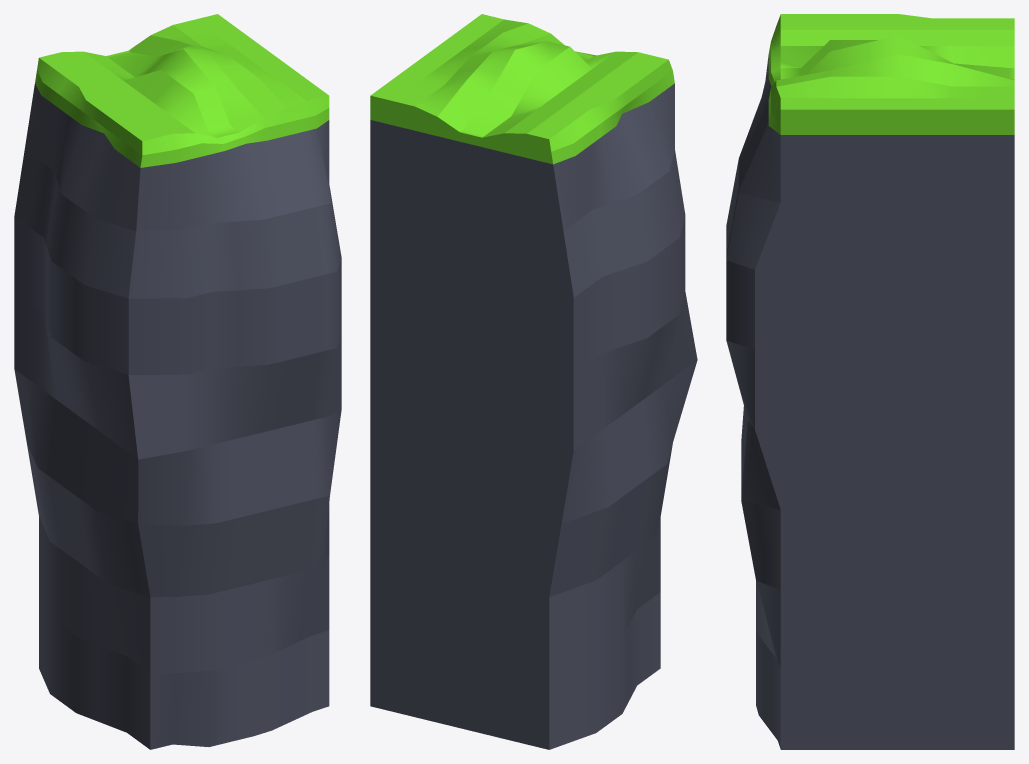
The model's file is CornerBlockDAE.dae.
3 views of the same model, side by side, from view 1: azimuth 30°, elevation 25°; view 2: azimuth 150°, elevation 25°; view 3: azimuth 270°, elevation 25° (orthographic). The views are drawn at different scales.
Parts seen in each view (by area): view 1: CornerBlock; view 2: CornerBlock; view 3: CornerBlock.
Boxes of the visible parts, x1,y1,x2,y2 form: CornerBlock: (14, 14, 341, 749); CornerBlock: (370, 14, 697, 749); CornerBlock: (726, 14, 1014, 749).
Bounding box in the file's own units: 137 × 378 × 148.
